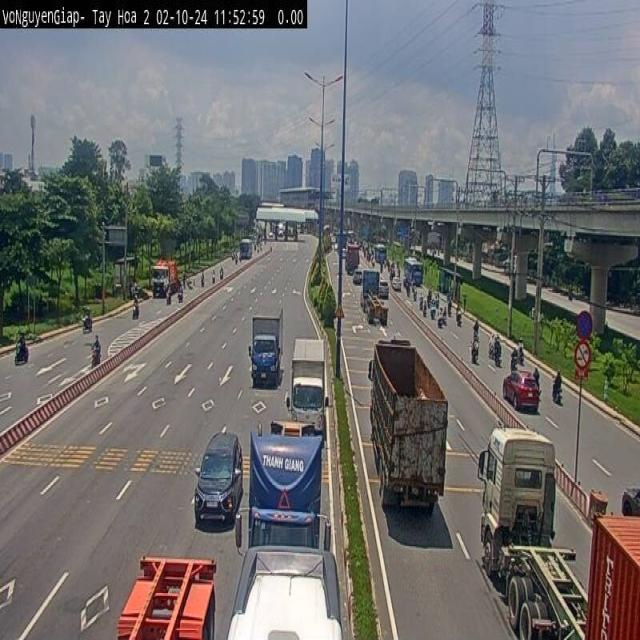car: (194, 427, 243, 528), (502, 370, 540, 412)
container-truck: (473, 420, 640, 640)
person: (91, 334, 101, 366)
truck: (368, 336, 448, 514), (287, 333, 334, 439), (248, 308, 282, 386), (151, 256, 179, 297)
